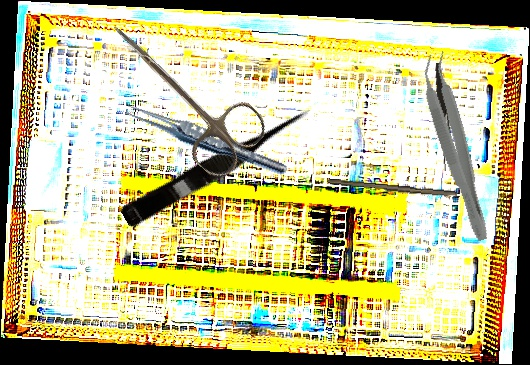Dressing Forceps: (429, 62, 457, 172)
Iris Scissors: (84, 0, 274, 185)
Micro Scissor: (119, 101, 319, 234)
Scalpel Handle: (327, 178, 458, 199)
Tissue Forceps: (413, 50, 503, 244), (120, 99, 291, 180)
